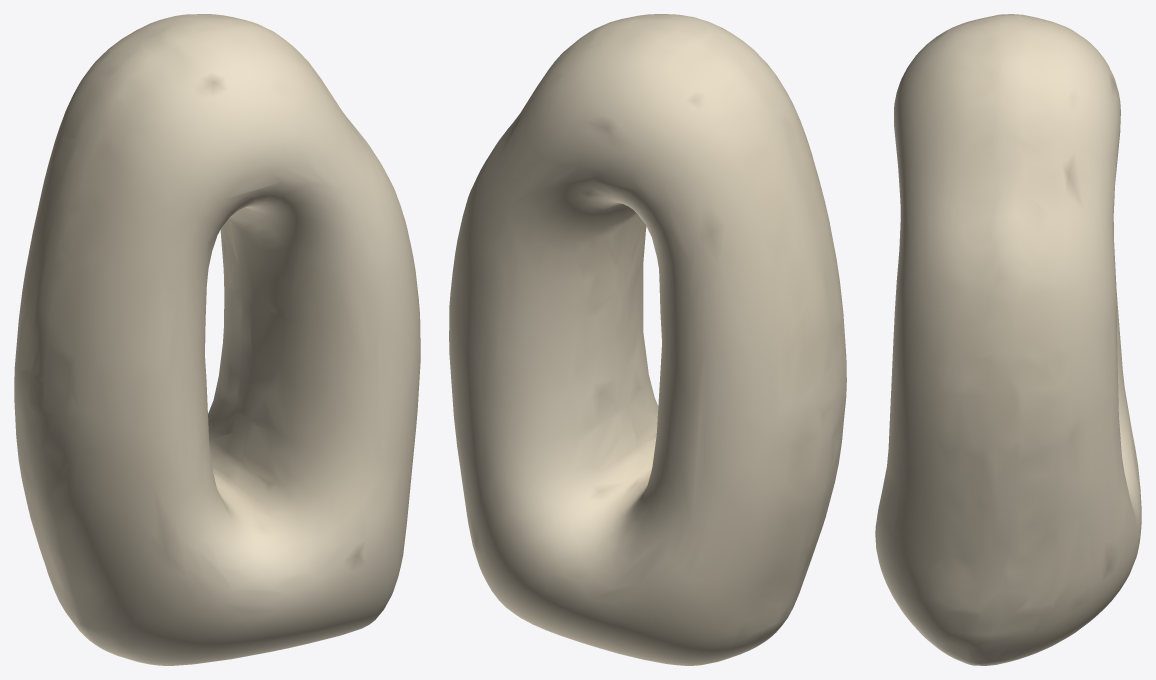
Rendered from rook-white.glb.
3 views of the same model, side by side, from view 1: azimuth 30°, elevation 25°; view 2: azimuth 150°, elevation 25°; view 3: azimuth 270°, elevation 25° (orthographic). The views are drawn at different scales.
Visible parts, largest first — view 1: Lumen vez bila; view 2: Lumen vez bila; view 3: Lumen vez bila.
Boxes of the visible parts, x1,y1,x2,y2 form: Lumen vez bila: [14, 14, 420, 665]; Lumen vez bila: [449, 14, 846, 665]; Lumen vez bila: [875, 14, 1141, 665].
Size of the model in its own units: 0.5737 by 0.9298 by 0.39.
